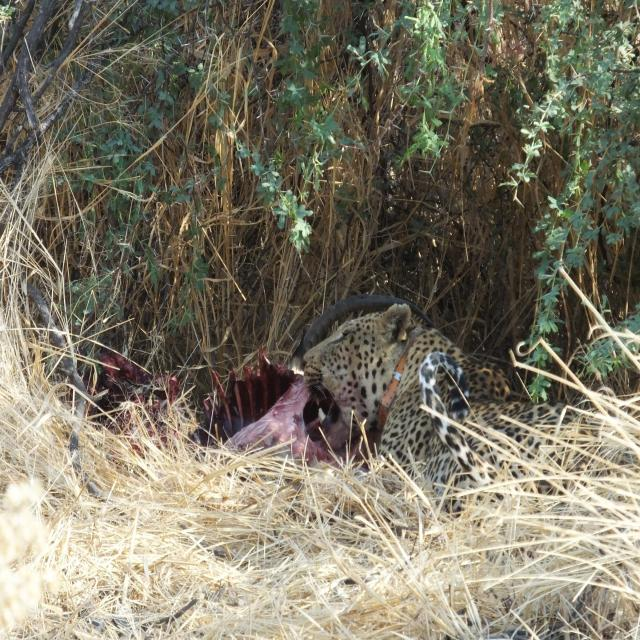Leopard: (305, 304, 626, 552)
